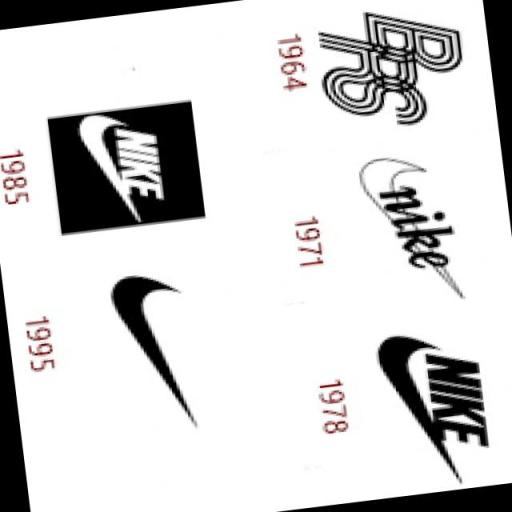Nike: (373, 328, 464, 493), (424, 345, 490, 453)
